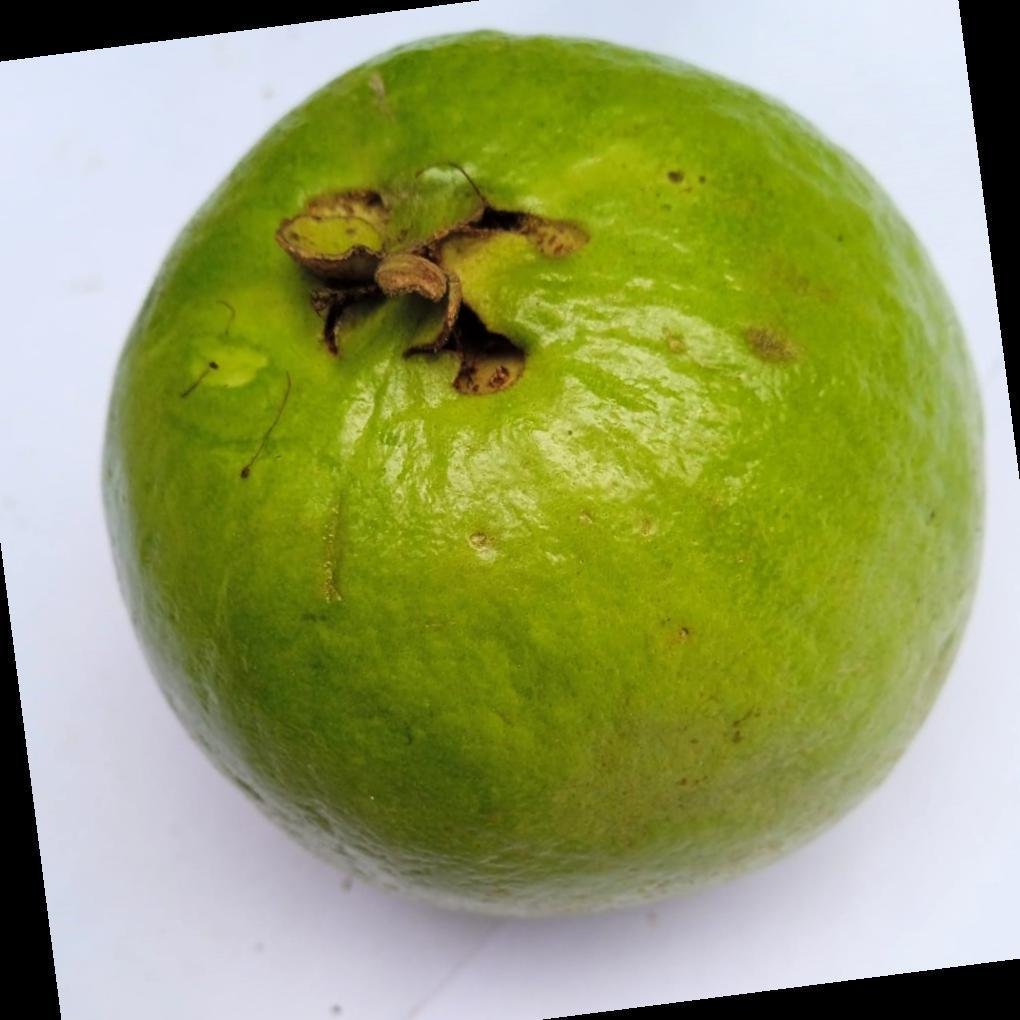FreshGuava: (97, 32, 987, 924)
